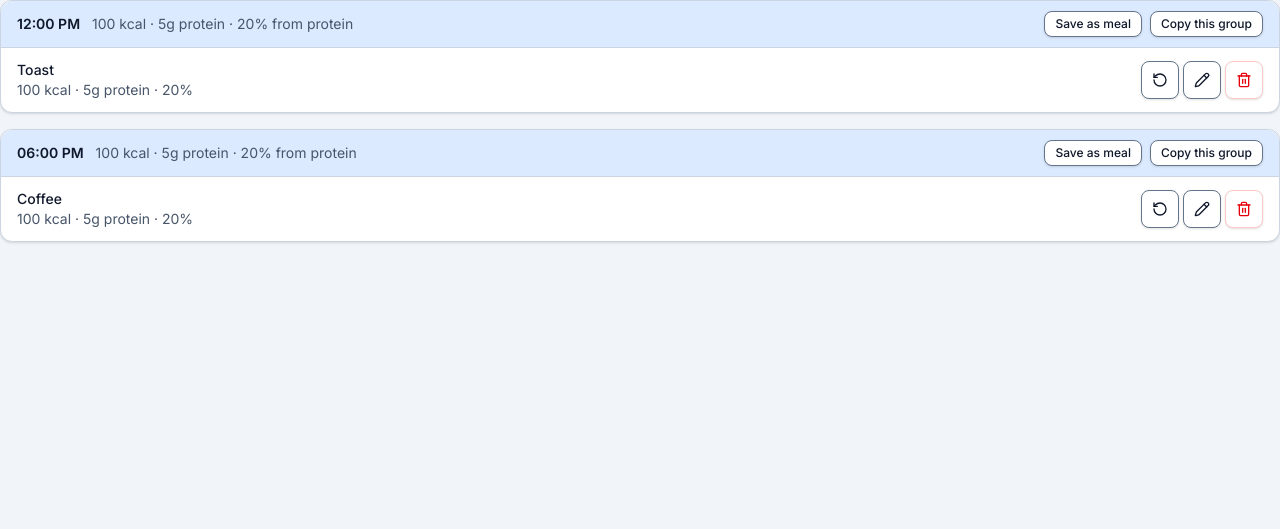
Test case: FoodEntryList -- active-group suppression (Phase 8d) › opening 'Save as meal' on one group hides that group's row actions and the sibling header action
The width and height of the screenshot is (1280, 529).
Click the button "Save as meal" in the row of "12:00 PM" at point(1093, 24), box [1044,11,1142,37]
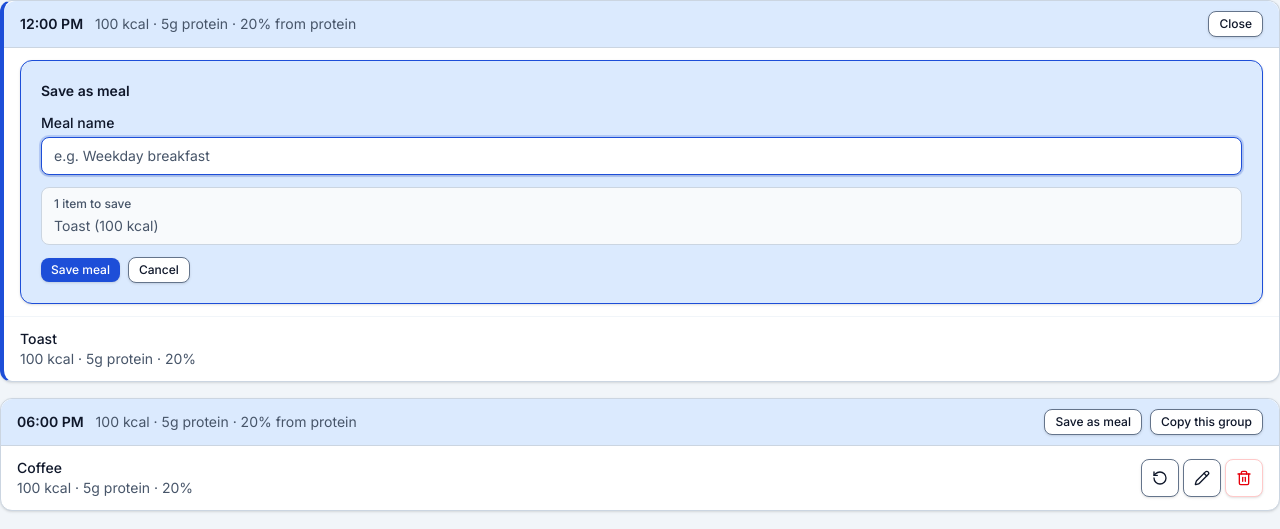
Expected: the button "Close" is shown, [1208,11,1263,37]
Expected: the number of buttons "Cancel" is 1, [128,257,190,283]
Expected: the element "Save as meal" is shown, [20,60,1263,304]
